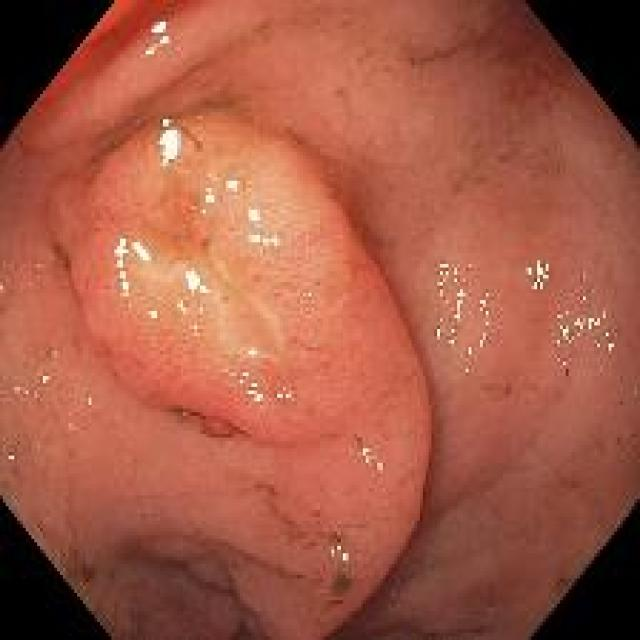Polyps: (52, 112, 419, 445)
